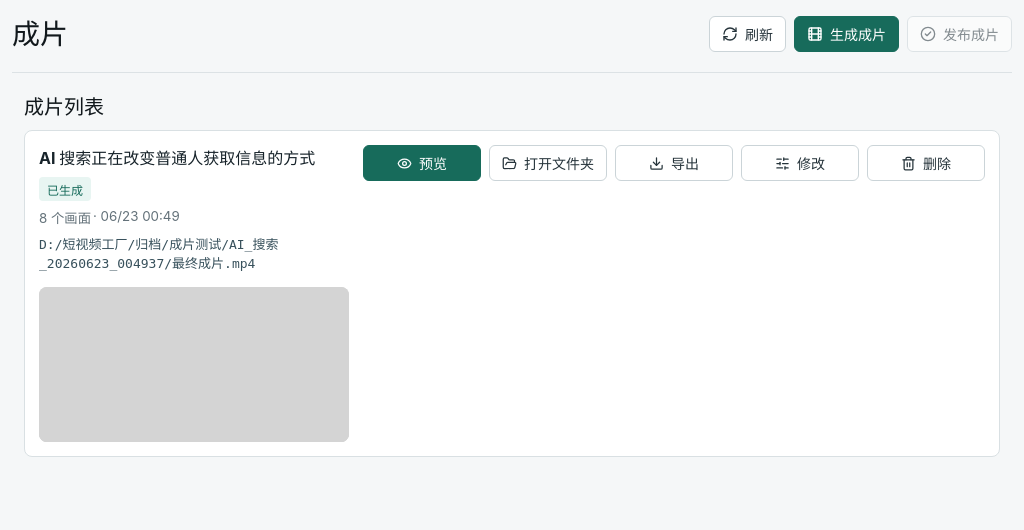
Scenario: 成片页面 › 没有项目时不会偷偷生成测试成片
The width and height of the screenshot is (1024, 530).
Expected: the text "AI 搜索正在改变普通人获取信息的方式" is shown, [39,145,315,169]
What coordinates should you click on to do the following:
click the button "生成成片"
I would click on:
 (846, 34)
Its box is [794,16,899,52].
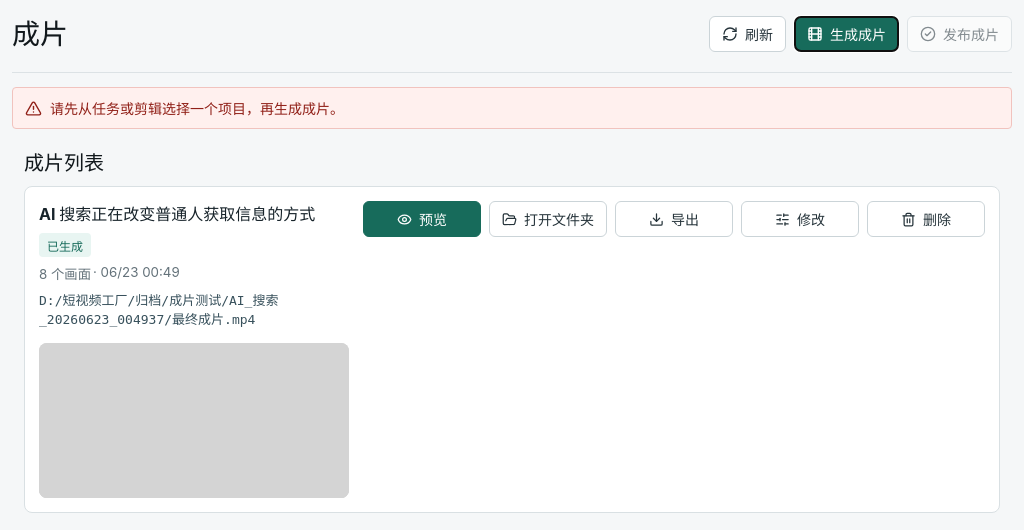
Result: the text "请先从任务或剪辑选择一个项目，再生成成片。" is shown at [12,87,1012,129]
